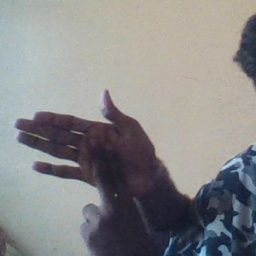N: (12, 88, 154, 239)
